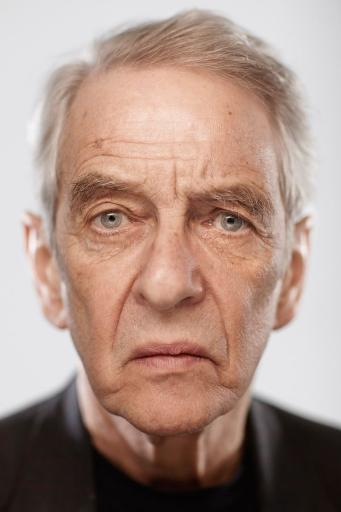left_eye: (202, 211, 258, 240)
left_lip_corner: (204, 348, 221, 370)
right_eye: (87, 206, 143, 238)
right_lip_corner: (123, 350, 142, 371)
